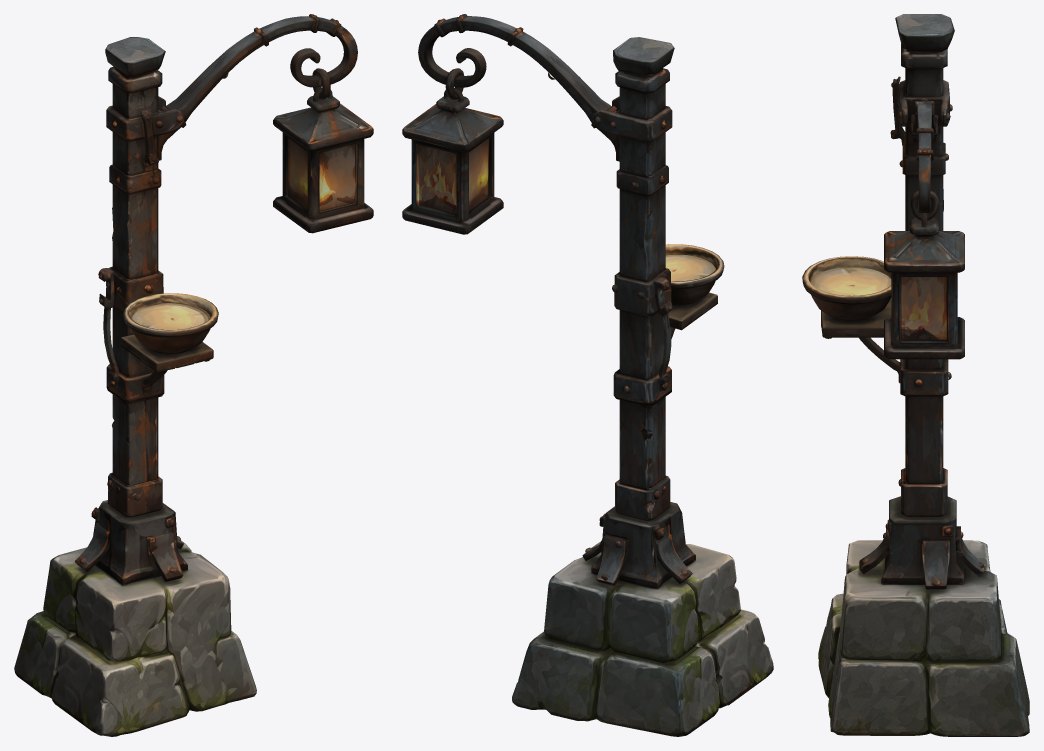
File: act1_extras_v1_sexton_lamp.glb
The picture shows the model from 3 angles, left to right: view 1: azimuth 30°, elevation 25°; view 2: azimuth 150°, elevation 25°; view 3: azimuth 270°, elevation 25°; orthographic projection. The views are drawn at different scales.
Parts seen in each view (by area): view 1: b5244d1d_cbb1_457a_9d3e_184027cda5ce; view 2: b5244d1d_cbb1_457a_9d3e_184027cda5ce; view 3: b5244d1d_cbb1_457a_9d3e_184027cda5ce.
Part boxes in pixels (x1,y1,x2,y2): b5244d1d_cbb1_457a_9d3e_184027cda5ce: (14, 14, 373, 736); b5244d1d_cbb1_457a_9d3e_184027cda5ce: (402, 14, 773, 736); b5244d1d_cbb1_457a_9d3e_184027cda5ce: (802, 14, 1029, 736).
Bounding box in the file's own units: 0.5015 × 0.9995 × 0.3071.
1 material, 1 textured.
